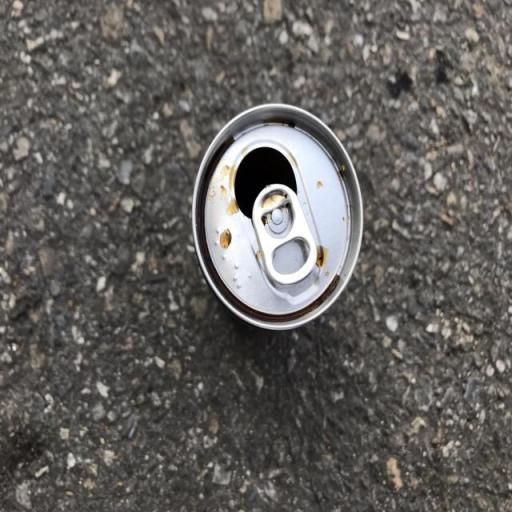metal: (173, 66, 397, 369)
